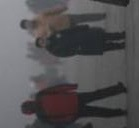person: (21, 81, 129, 123), (36, 27, 128, 58), (19, 6, 105, 35), (24, 120, 88, 128), (28, 72, 71, 82), (25, 1, 71, 9), (27, 54, 60, 61), (30, 82, 52, 90), (38, 60, 64, 66), (26, 42, 41, 52)
